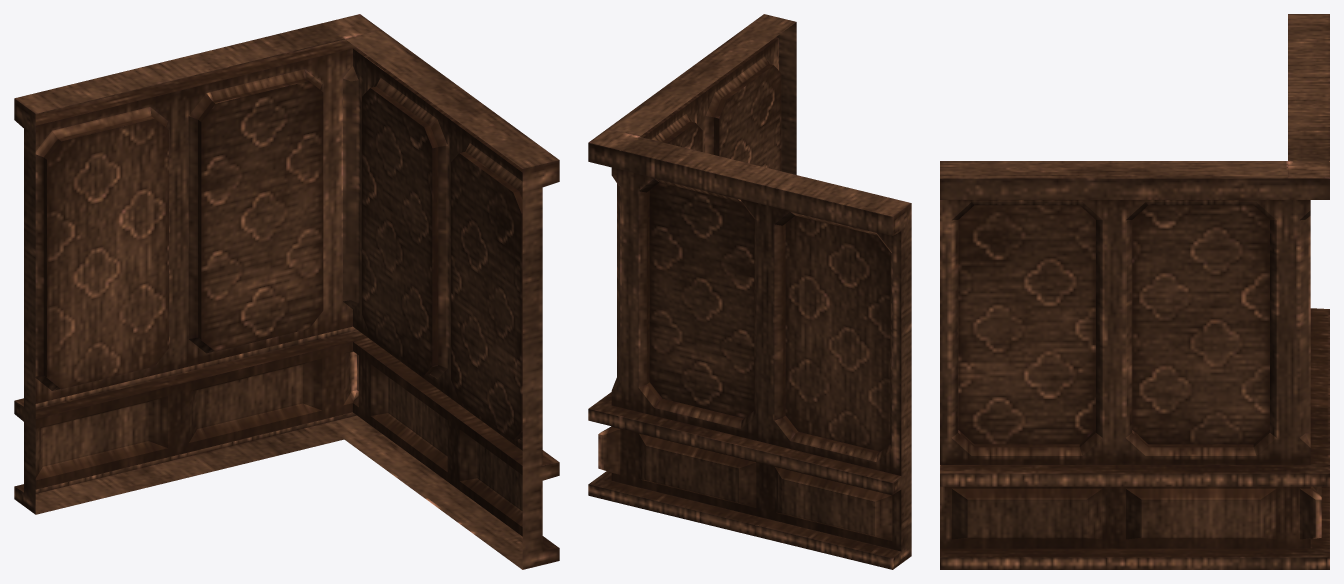
The model's file is Trim_Wood_Corner_93.fbx.
The picture shows the model from 3 angles, left to right: view 1: azimuth 30°, elevation 25°; view 2: azimuth 150°, elevation 25°; view 3: azimuth 270°, elevation 25°; orthographic projection. The views are drawn at different scales.
Parts seen in each view (by area): view 1: Trim_Wood_Corner_93; view 2: Trim_Wood_Corner_93; view 3: Trim_Wood_Corner_93.
Boxes of the visible parts, x1,y1,x2,y2 form: Trim_Wood_Corner_93: (14,14,559,569); Trim_Wood_Corner_93: (588,14,911,569); Trim_Wood_Corner_93: (940,14,1329,569).
Size of the model in its own units: 112 by 124 by 112.
1 material, 1 textured.
